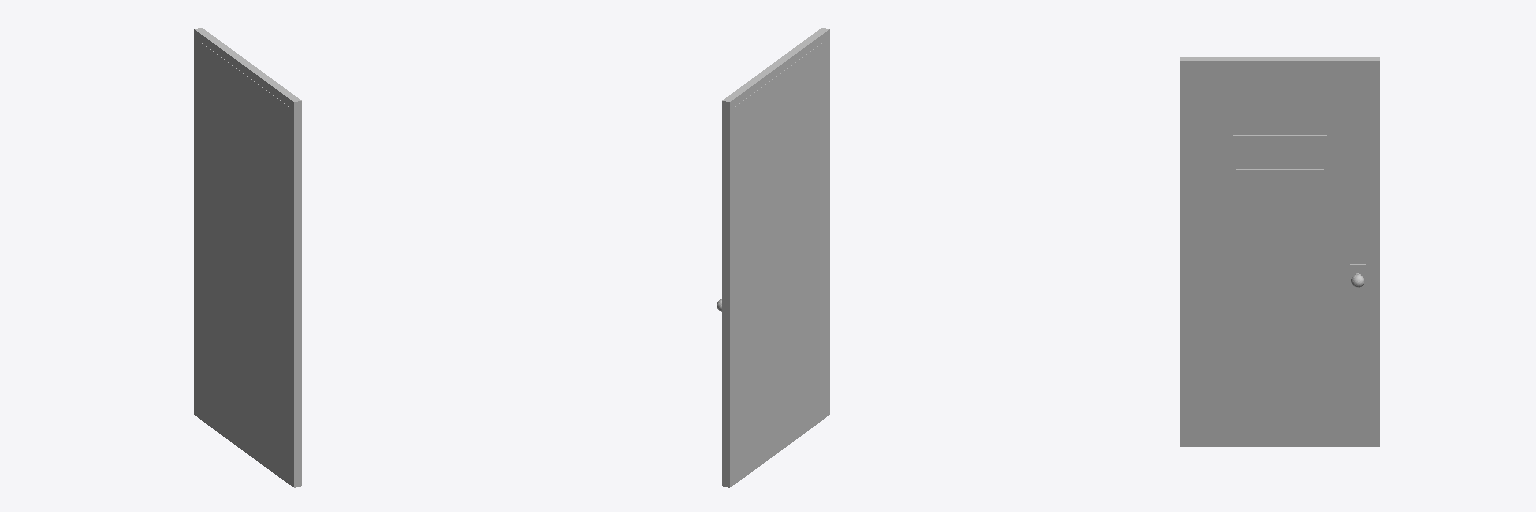
Rendered from SteelDoor.obj.
The picture shows the model from 3 angles: view 1: azimuth 30°, elevation 25°; view 2: azimuth 150°, elevation 25°; view 3: azimuth 270°, elevation 25°; orthographic projection.
Visible parts, largest first — view 1: Cube_Cube.001; view 2: Cube_Cube.001; view 3: Cube_Cube.001.
Part boxes in pixels (bbox=[...]): Cube_Cube.001: bbox=[194, 28, 301, 487]; Cube_Cube.001: bbox=[717, 28, 829, 487]; Cube_Cube.001: bbox=[1180, 57, 1379, 446].
Bounding box in the file's own units: 0.141 × 2.23 × 1.05.